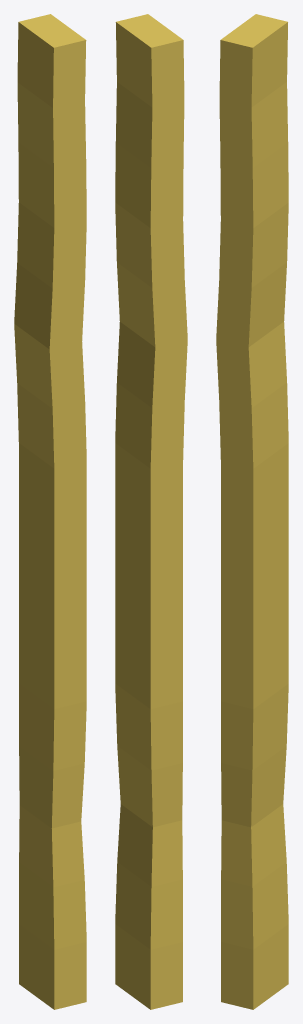
File: 左木柱3.fbx
3 views of the same model, side by side, from view 1: azimuth 30°, elevation 25°; view 2: azimuth 210°, elevation 25°; view 3: azimuth 330°, elevation 25° (orthographic).
Visible parts, largest first — view 1: L.wood.1; view 2: L.wood.1; view 3: L.wood.1.
Boxes of the visible parts, <box> form: L.wood.1: <box>14,14,86,1009</box>; L.wood.1: <box>115,14,187,1009</box>; L.wood.1: <box>216,14,288,1009</box>.
Bounding box in the file's own units: 28.93 × 715 × 47.81.
